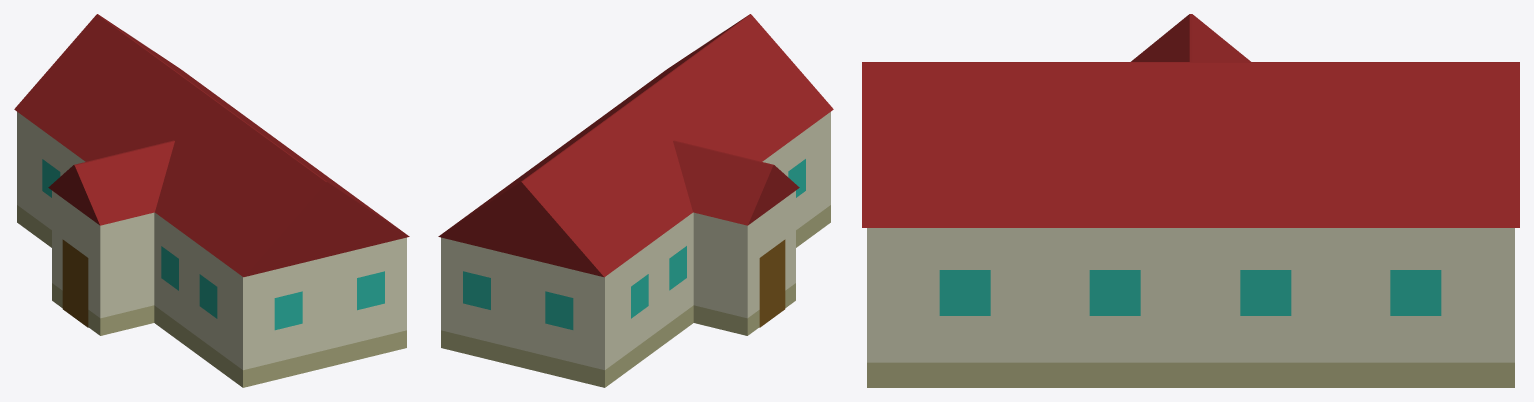
Rendered from House2.fbx.
3 views of the same model, side by side, from view 1: azimuth 30°, elevation 25°; view 2: azimuth 150°, elevation 25°; view 3: azimuth 270°, elevation 25° (orthographic). The views are drawn at different scales.
Visible parts, largest first — view 1: House2; view 2: House2; view 3: House2.
Part boxes in pixels (<box>): House2: <box>14,14,409,387</box>; House2: <box>438,14,833,387</box>; House2: <box>862,14,1519,387</box>.
Bounding box in the file's own units: 183 × 148 × 329.
